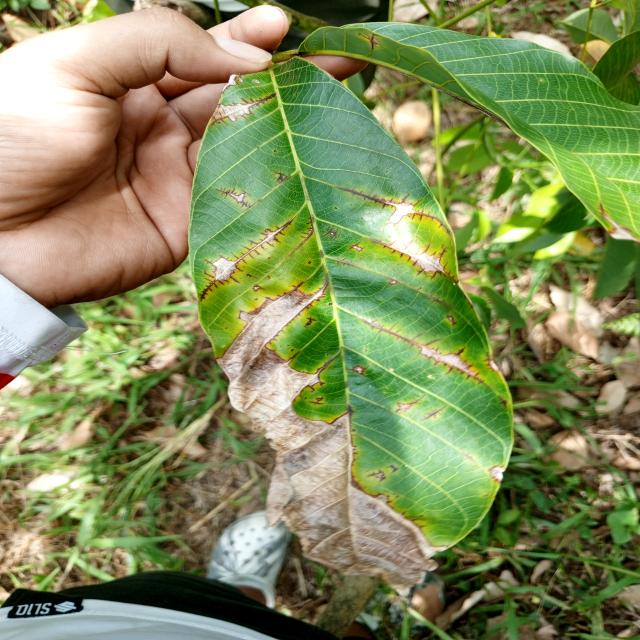Colletotrichum: (389, 280, 397, 285), (308, 260, 312, 264), (329, 303, 332, 306), (350, 204, 353, 207), (334, 207, 338, 209), (274, 150, 277, 152), (295, 94, 298, 95), (304, 125, 306, 126)
Corynespora: (363, 318, 485, 384), (370, 238, 458, 285), (230, 221, 292, 263), (338, 186, 397, 208), (412, 210, 450, 236), (200, 271, 228, 301), (216, 186, 251, 208), (300, 283, 327, 309), (240, 93, 276, 107), (223, 73, 247, 94), (300, 213, 314, 247), (277, 282, 304, 298), (210, 110, 232, 128), (358, 32, 380, 50), (421, 407, 446, 422), (481, 352, 498, 372), (394, 400, 418, 413), (316, 358, 335, 374), (323, 226, 341, 241), (346, 364, 369, 375), (367, 469, 386, 481), (596, 203, 610, 219), (203, 258, 217, 273), (286, 350, 302, 363), (348, 241, 366, 252), (302, 316, 318, 328), (334, 258, 354, 266), (308, 398, 326, 405), (276, 171, 286, 183), (218, 254, 232, 262), (399, 194, 410, 204), (229, 276, 240, 284), (413, 199, 423, 207), (234, 264, 243, 272), (246, 273, 256, 279)
Leaf-Blight: (216, 291, 448, 597), (609, 218, 639, 242), (389, 203, 416, 224), (488, 464, 506, 483)
